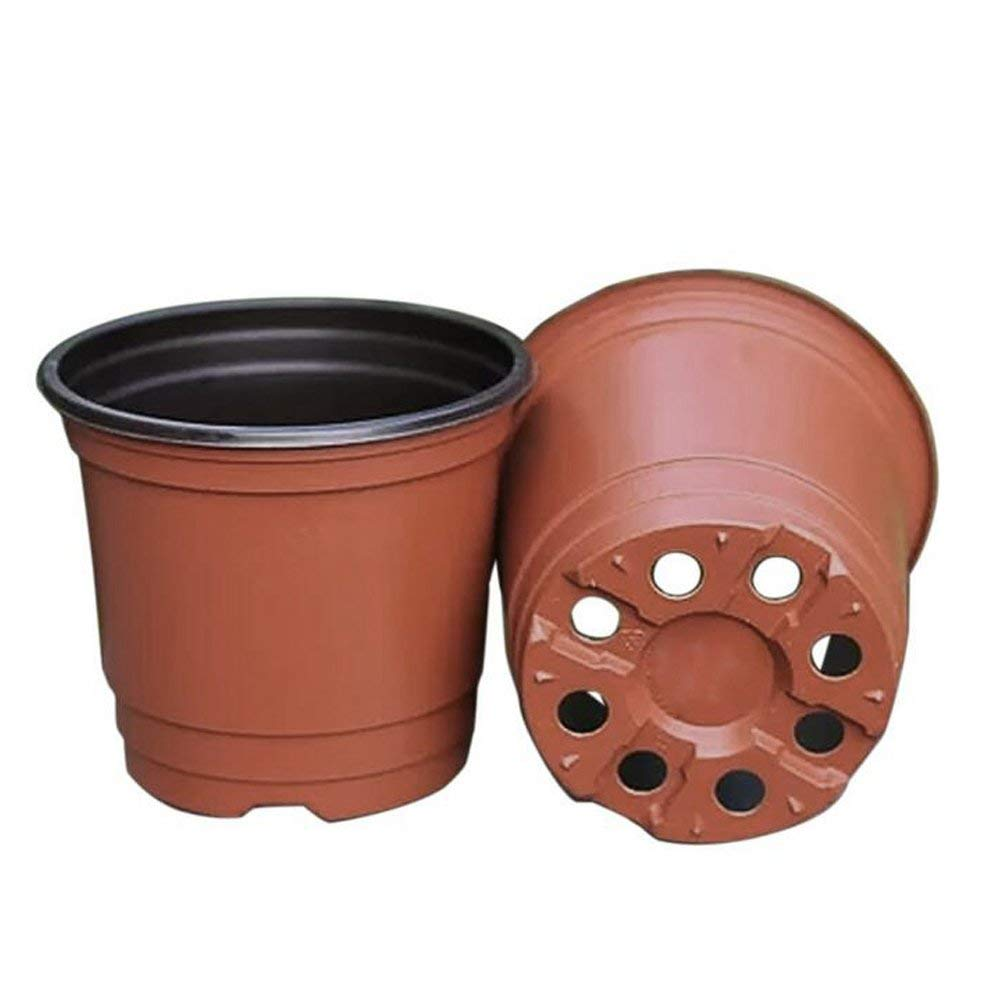Rec_Plastic: (475, 239, 960, 849), (35, 259, 505, 843)
